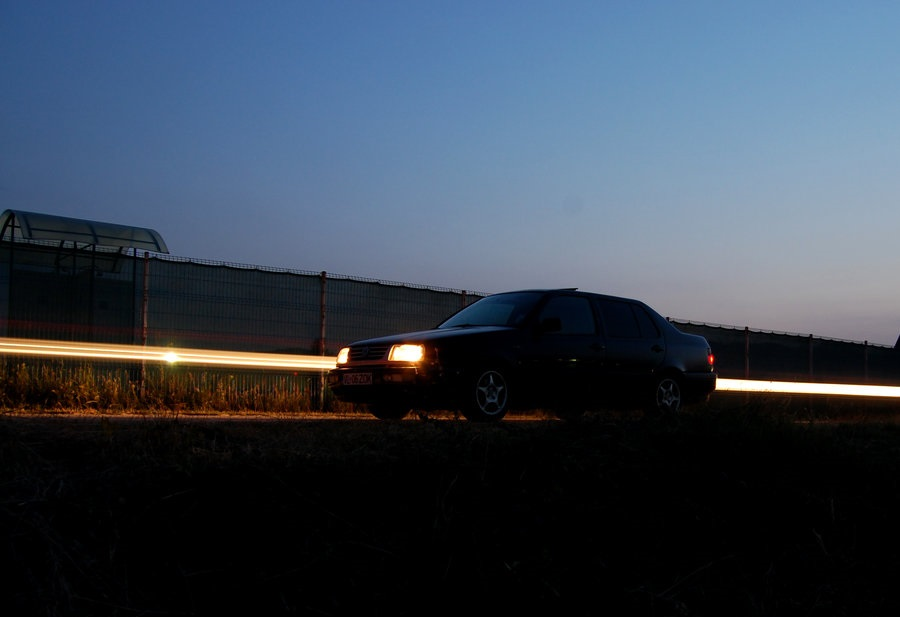car: (318, 281, 730, 431)
